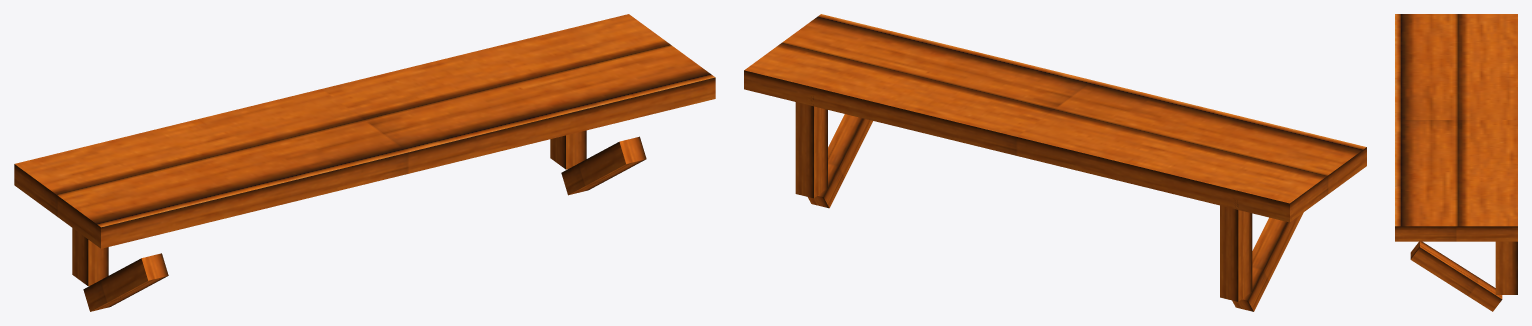
File: Shelf_Wall.fbx
The picture shows the model from 3 angles, left to right: view 1: azimuth 30°, elevation 25°; view 2: azimuth 150°, elevation 25°; view 3: azimuth 270°, elevation 25°; orthographic projection. The views are drawn at different scales.
Parts seen in each view (by area): view 1: Shelf_Wall; view 2: Shelf_Wall; view 3: Shelf_Wall.
Part boxes in pixels (bbox=[...]): Shelf_Wall: bbox=[14, 14, 715, 311]; Shelf_Wall: bbox=[744, 14, 1366, 311]; Shelf_Wall: bbox=[1395, 14, 1517, 311].
Bounding box in the file's own units: 0.9 × 0.2089 × 0.22.
